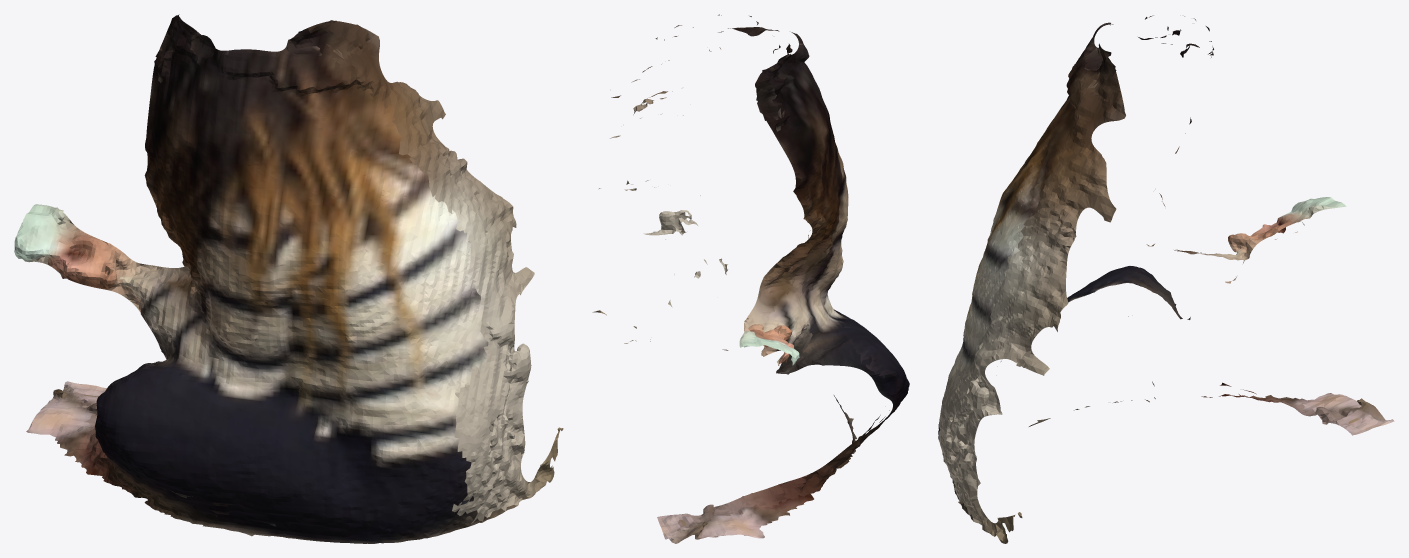
3 renders of one model, left to right at view 1: azimuth 30°, elevation 25°; view 2: azimuth 150°, elevation 25°; view 3: azimuth 270°, elevation 25°, orthographic. The views are drawn at different scales.
Bounding box in the file's own units: 0.6293 × 0.6766 × 0.677.
Materials: 1 (1 with a texture image).
